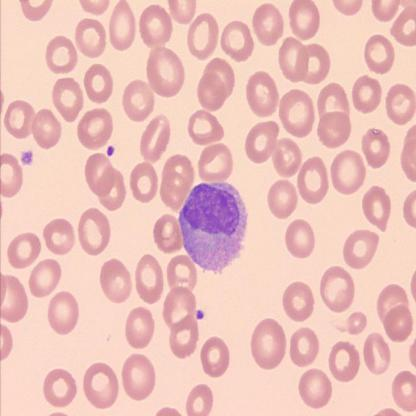Metamyelocyte: (176, 177, 249, 275)
